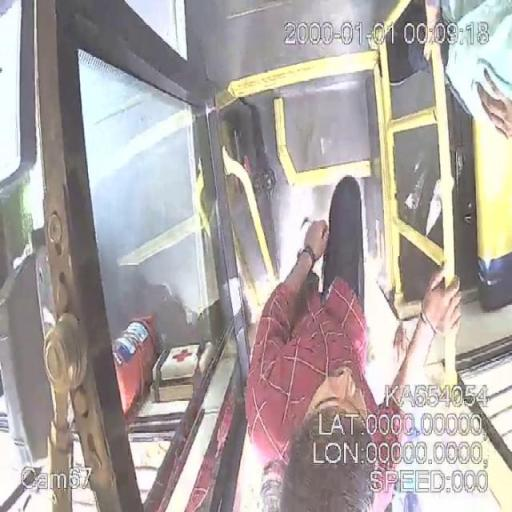persona: (244, 174, 462, 510)
